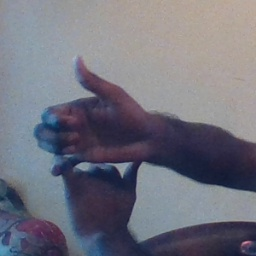S: (30, 48, 175, 213)
